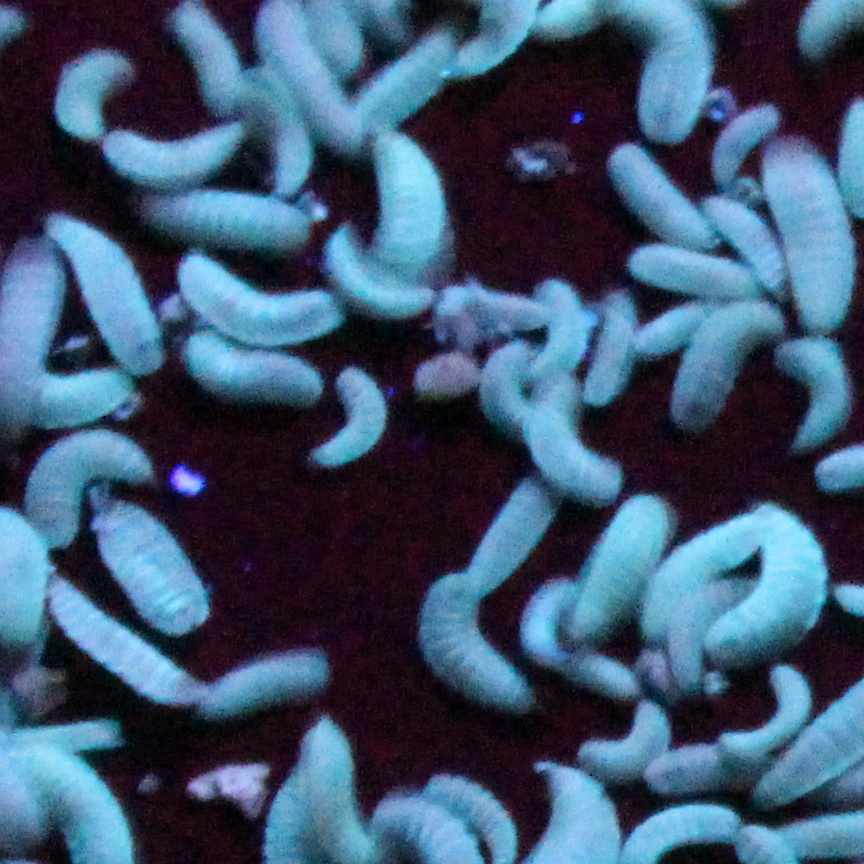larve: (38, 580, 209, 706), (701, 506, 826, 672), (52, 213, 165, 390), (767, 128, 855, 331), (170, 246, 343, 338), (645, 511, 760, 646), (570, 487, 672, 638), (94, 497, 211, 628), (416, 572, 523, 711), (28, 433, 153, 550), (667, 304, 767, 433), (184, 329, 326, 413), (467, 472, 560, 599), (377, 131, 455, 280), (616, 138, 716, 246), (326, 226, 436, 321), (523, 406, 628, 504), (206, 648, 338, 721), (716, 663, 809, 758), (357, 33, 457, 119), (314, 367, 392, 477), (167, 4, 243, 116), (775, 336, 853, 443), (101, 126, 250, 182), (623, 241, 760, 294), (57, 46, 133, 138), (582, 706, 670, 782), (550, 636, 643, 706), (704, 197, 779, 282), (255, 82, 311, 194), (709, 109, 782, 192), (531, 277, 589, 380), (635, 294, 718, 363), (484, 338, 533, 441), (453, 292, 545, 343)
